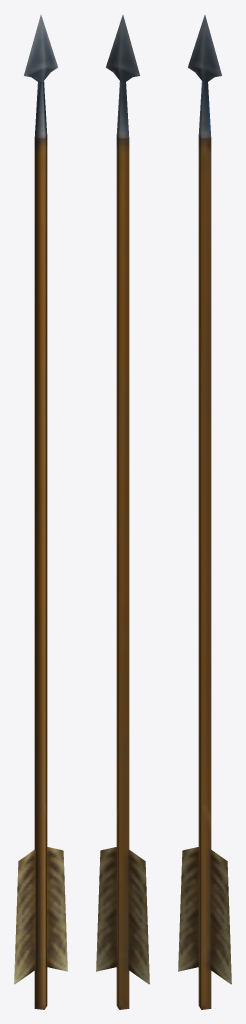
File: Arrow01.FBX
3 views of the same model, side by side, from view 1: azimuth 30°, elevation 25°; view 2: azimuth 150°, elevation 25°; view 3: azimuth 330°, elevation 25° (orthographic).
Visible parts, largest first — view 1: Arrow01; view 2: Arrow01; view 3: Arrow01.
Part boxes in pixels (x1,y1,x2,y2): Arrow01: (14,15,67,1009); Arrow01: (96,15,149,1009); Arrow01: (178,15,231,1009).
Bounding box in the file's own units: 4.27 × 76.25 × 1.
